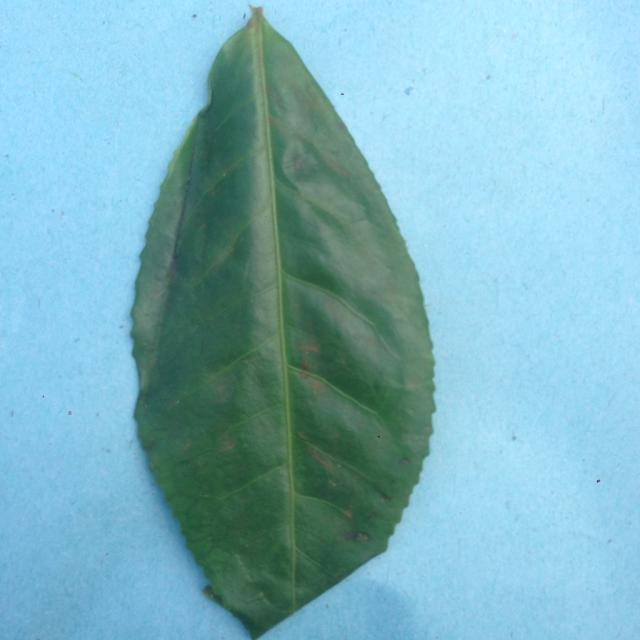Healthy: (91, 0, 452, 640)
